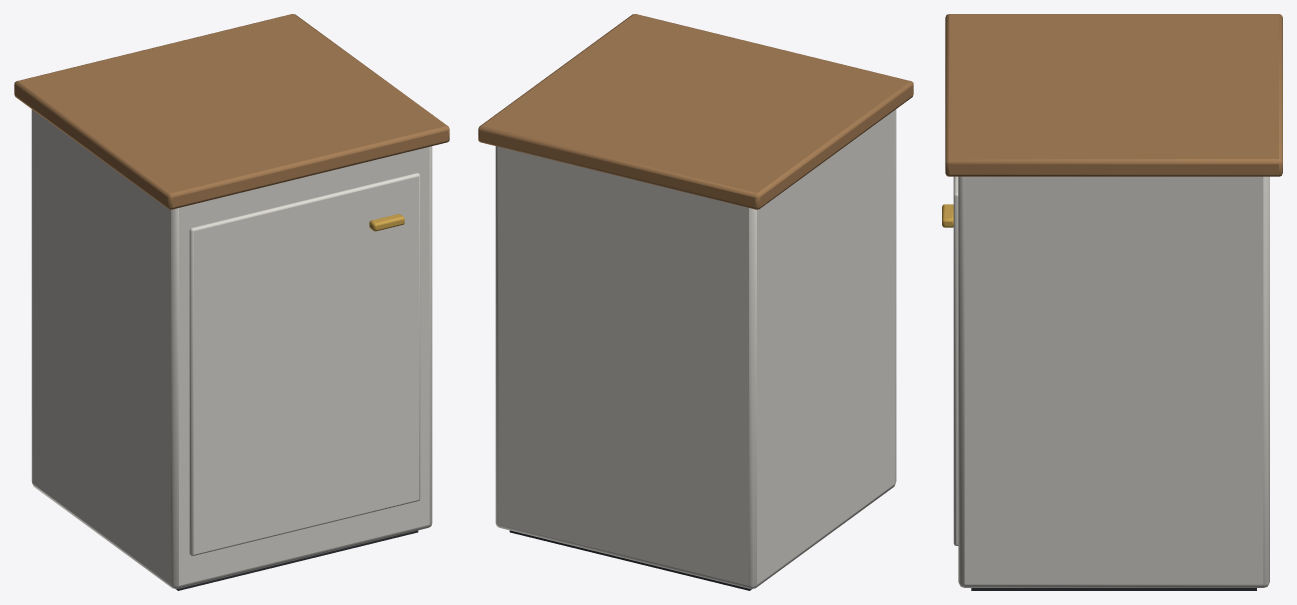
Rendered from side_table.fbx.
The picture shows the model from 3 angles, left to right: view 1: azimuth 30°, elevation 25°; view 2: azimuth 150°, elevation 25°; view 3: azimuth 270°, elevation 25°; orthographic projection. The views are drawn at different scales.
Visible parts, largest first — view 1: SideTable; view 2: SideTable; view 3: SideTable.
Part boxes in pixels (x1,y1,x2,y2): SideTable: [14, 14, 449, 590]; SideTable: [478, 14, 913, 590]; SideTable: [942, 14, 1282, 590].
Bounding box in the file's own units: 0.54 × 0.75 × 0.525.
